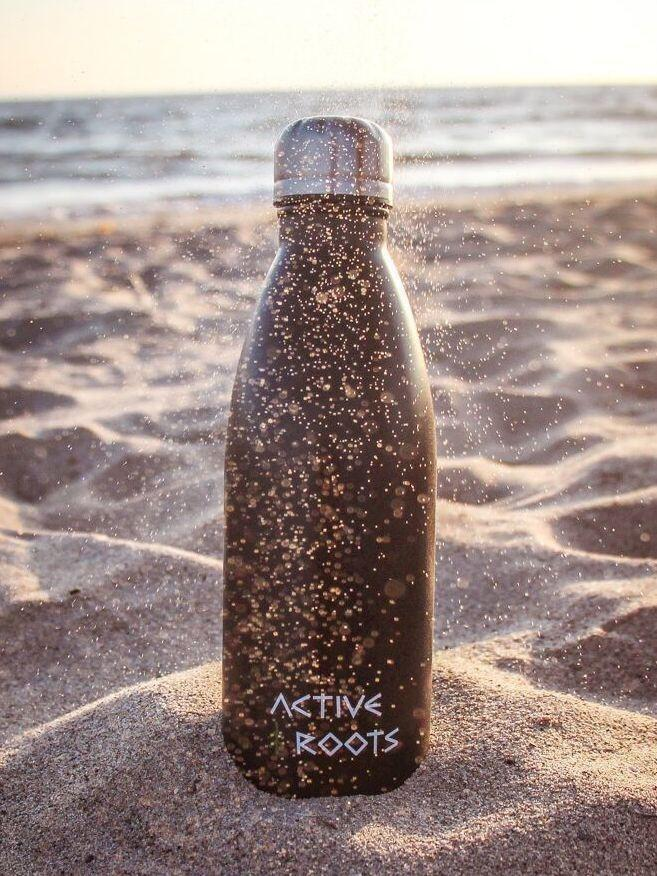gym bottle: (215, 111, 443, 805)
